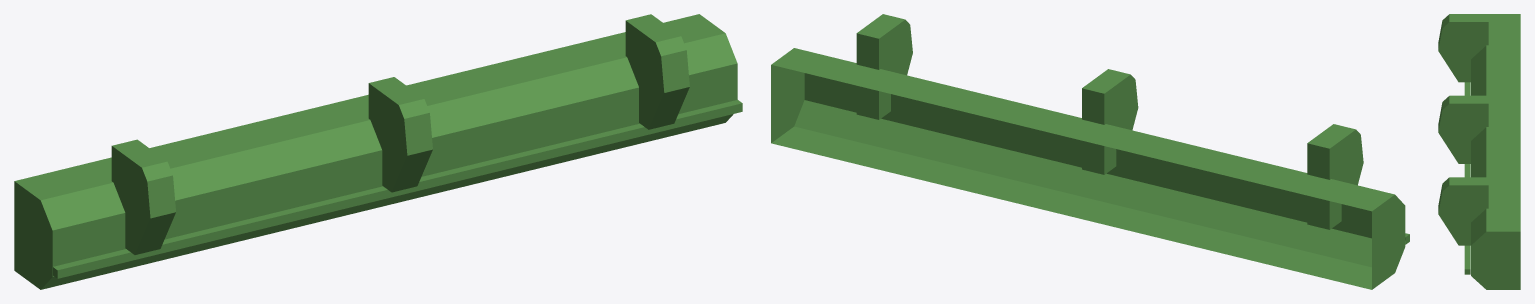
Rendered from parapet tile.FBX.
3 renders of one model, left to right at view 1: azimuth 30°, elevation 25°; view 2: azimuth 150°, elevation 25°; view 3: azimuth 270°, elevation 25°, orthographic. The views are drawn at different scales.
Parts seen in each view (by area): view 1: Object350; view 2: Object350; view 3: Object350.
Part boxes in pixels (bbox=[...]): Object350: bbox=[14, 14, 742, 289]; Object350: bbox=[771, 14, 1409, 289]; Object350: bbox=[1438, 14, 1520, 289].
Size of the model in its own units: 4 by 0.6987 by 0.6403.
